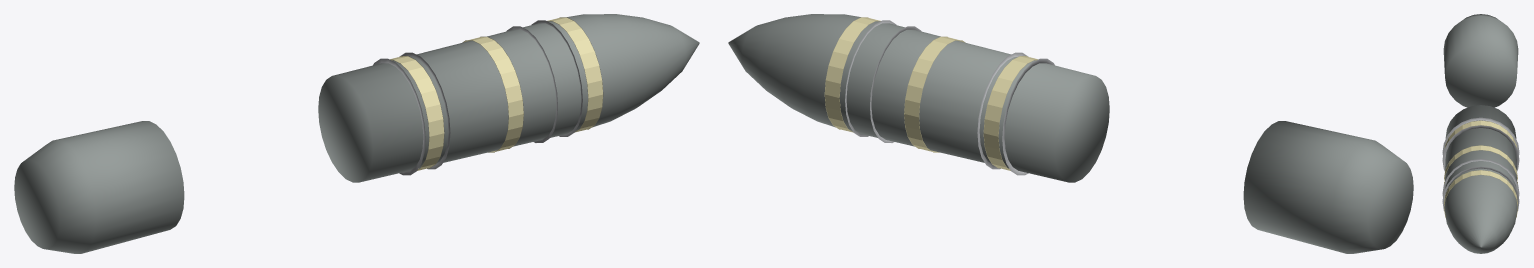
The model's file is RU_SLBM_R39_LOD1.fbx.
3 renders of one model, left to right at view 1: azimuth 30°, elevation 25°; view 2: azimuth 150°, elevation 25°; view 3: azimuth 270°, elevation 25°, orthographic. The views are drawn at different scales.
Parts seen in each view (by area): view 1: WPN_RU_SLBM_R39_LOD1_Body, WPN_RU_SLBM_R39_LOD1_Tail, WPN_RU_SLBM_R39_LOD1_Marking, WPN_RU_SLBM_R39_LOD1_Detail; view 2: WPN_RU_SLBM_R39_LOD1_Body, WPN_RU_SLBM_R39_LOD1_Tail, WPN_RU_SLBM_R39_LOD1_Marking, WPN_RU_SLBM_R39_LOD1_Detail; view 3: WPN_RU_SLBM_R39_LOD1_Body, WPN_RU_SLBM_R39_LOD1_Tail, WPN_RU_SLBM_R39_LOD1_Detail, WPN_RU_SLBM_R39_LOD1_Marking.
Part boxes in pixels (box(x1,y1,x2,y2)): WPN_RU_SLBM_R39_LOD1_Body: box(318, 14, 699, 182); WPN_RU_SLBM_R39_LOD1_Tail: box(14, 121, 184, 253); WPN_RU_SLBM_R39_LOD1_Marking: box(390, 17, 603, 170); WPN_RU_SLBM_R39_LOD1_Detail: box(373, 20, 582, 175); WPN_RU_SLBM_R39_LOD1_Body: box(728, 14, 1109, 182); WPN_RU_SLBM_R39_LOD1_Tail: box(1243, 121, 1413, 253); WPN_RU_SLBM_R39_LOD1_Marking: box(824, 17, 1037, 170); WPN_RU_SLBM_R39_LOD1_Detail: box(845, 20, 1054, 175); WPN_RU_SLBM_R39_LOD1_Body: box(1444, 105, 1517, 253); WPN_RU_SLBM_R39_LOD1_Tail: box(1443, 14, 1518, 107); WPN_RU_SLBM_R39_LOD1_Detail: box(1442, 117, 1519, 210); WPN_RU_SLBM_R39_LOD1_Marking: box(1444, 120, 1517, 217).
Bounding box in the file's own units: 16 × 2.52 × 2.52.
